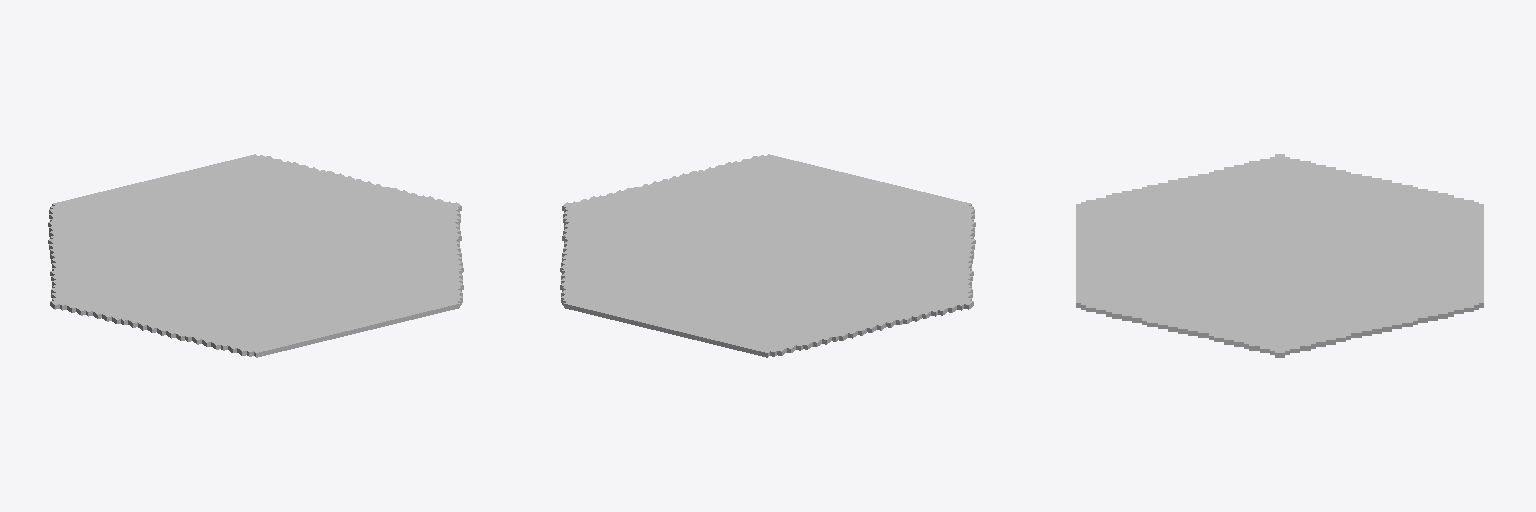
Rendered from rock.obj.
3 renders of one model, left to right at view 1: azimuth 30°, elevation 25°; view 2: azimuth 150°, elevation 25°; view 3: azimuth 270°, elevation 25°, orthographic.
Parts seen in each view (by area): view 1: object 1; view 2: object 1; view 3: object 1.
Boxes of the visible parts, <box> form: object 1: <box>48,154,463,357</box>; object 1: <box>560,154,975,357</box>; object 1: <box>1076,154,1483,357</box>.
Size of the model in its own units: 9.2 by 0.1 by 8.